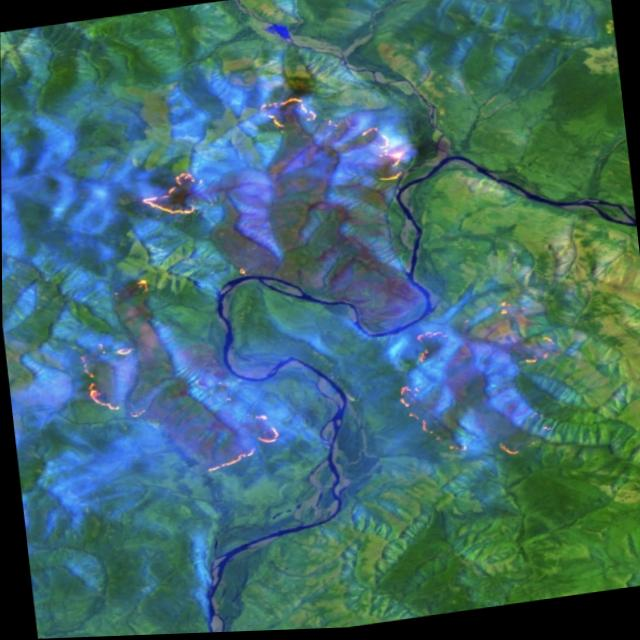fire: (56, 306, 298, 511), (378, 288, 584, 490), (244, 75, 417, 212), (137, 164, 218, 229)
